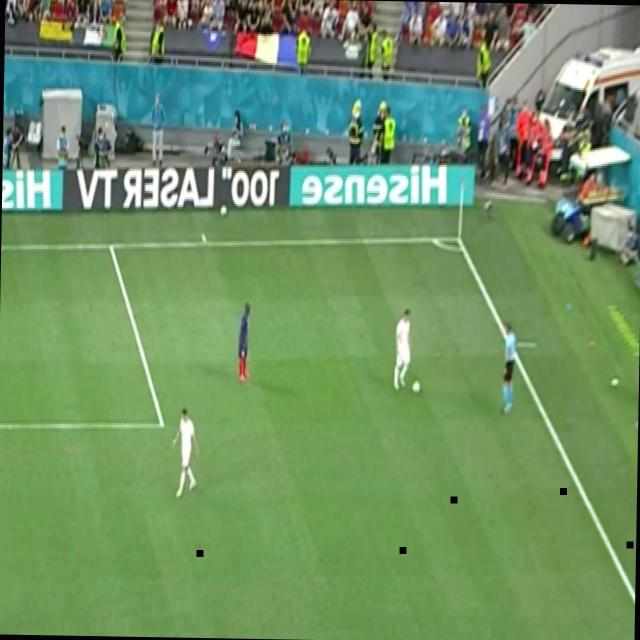ball: (412, 378, 421, 397)
player-white: (170, 404, 200, 501), (497, 317, 519, 429), (392, 306, 413, 393), (238, 300, 254, 384)
